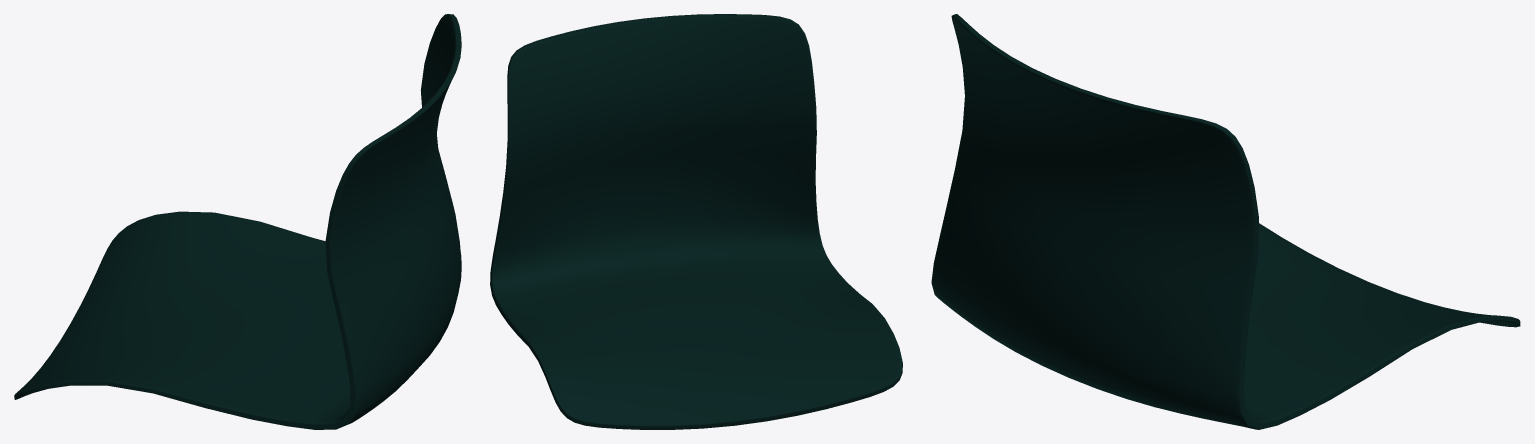
File: tablechair_0201_seat.glb
3 views of the same model, side by side, from view 1: azimuth 30°, elevation 25°; view 2: azimuth 150°, elevation 25°; view 3: azimuth 270°, elevation 25° (orthographic). The views are drawn at different scales.
Parts seen in each view (by area): view 1: tablechair_0201_seat; view 2: tablechair_0201_seat; view 3: tablechair_0201_seat.
Boxes of the visible parts, bbox=[...] form: tablechair_0201_seat: bbox=[14, 14, 461, 429]; tablechair_0201_seat: bbox=[490, 14, 902, 429]; tablechair_0201_seat: bbox=[931, 14, 1520, 429].
Size of the model in its own units: 0.6251 by 0.4006 by 0.6251.
Materials: 1 (1 with a texture image).
